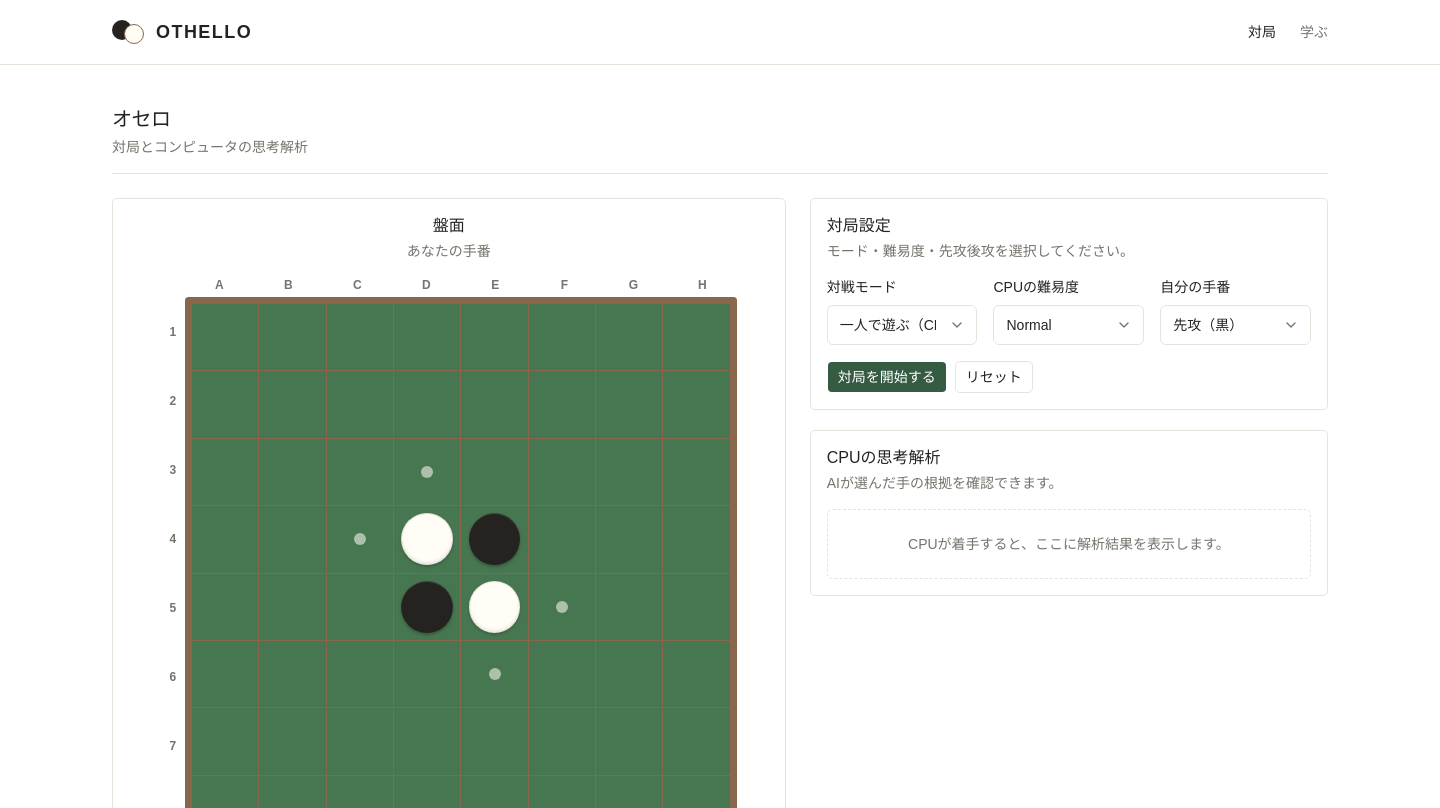
it: App › 解析失敗時にCPU着手せずエラーを表示する
Click the button named "3行4列" at (427,472), box [394, 439, 460, 505]
(page scrolled)
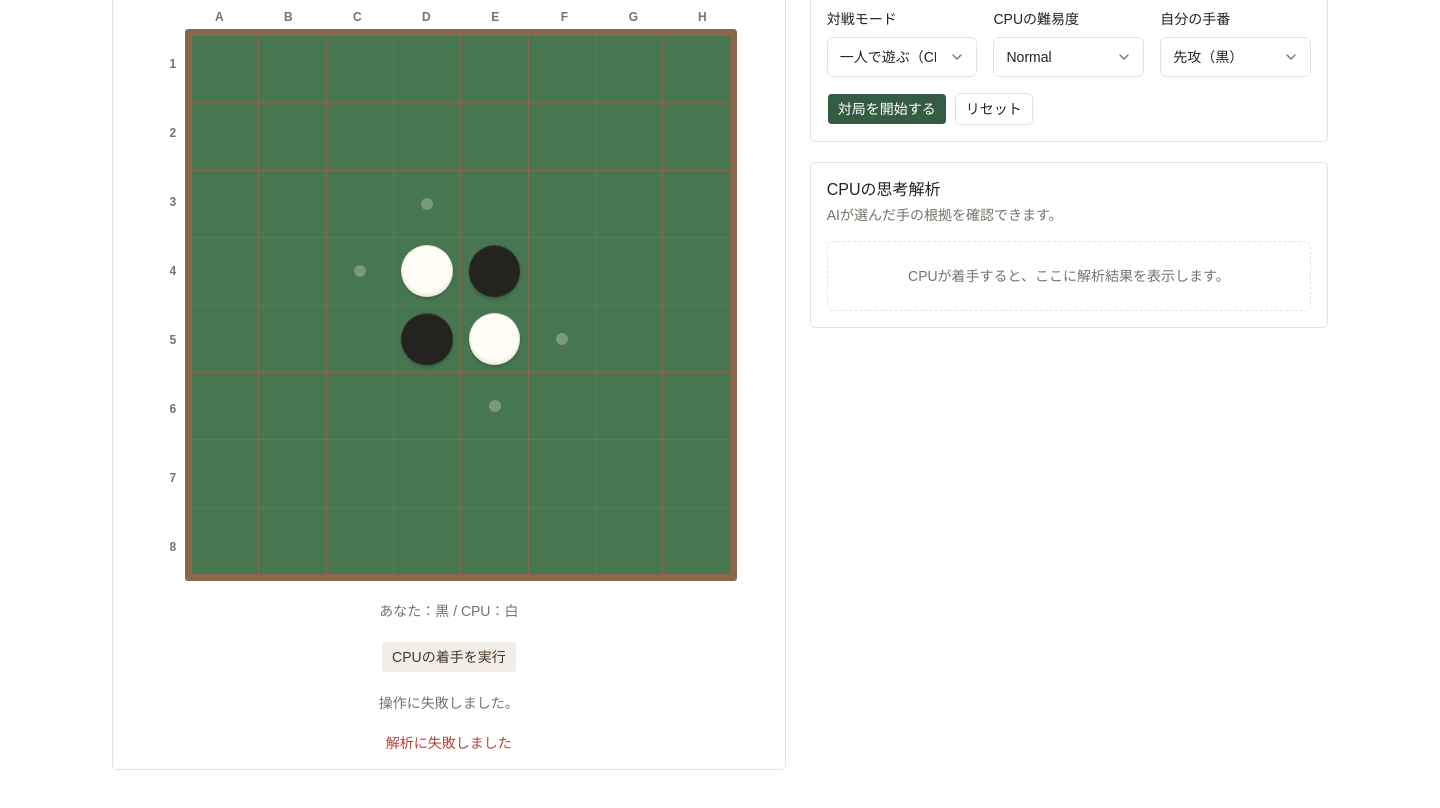
Check: the message "解析に失敗しました" is shown, box [386, 733, 512, 753]
Check: the button "CPUの着手を実行" is shown, box [381, 641, 517, 673]
